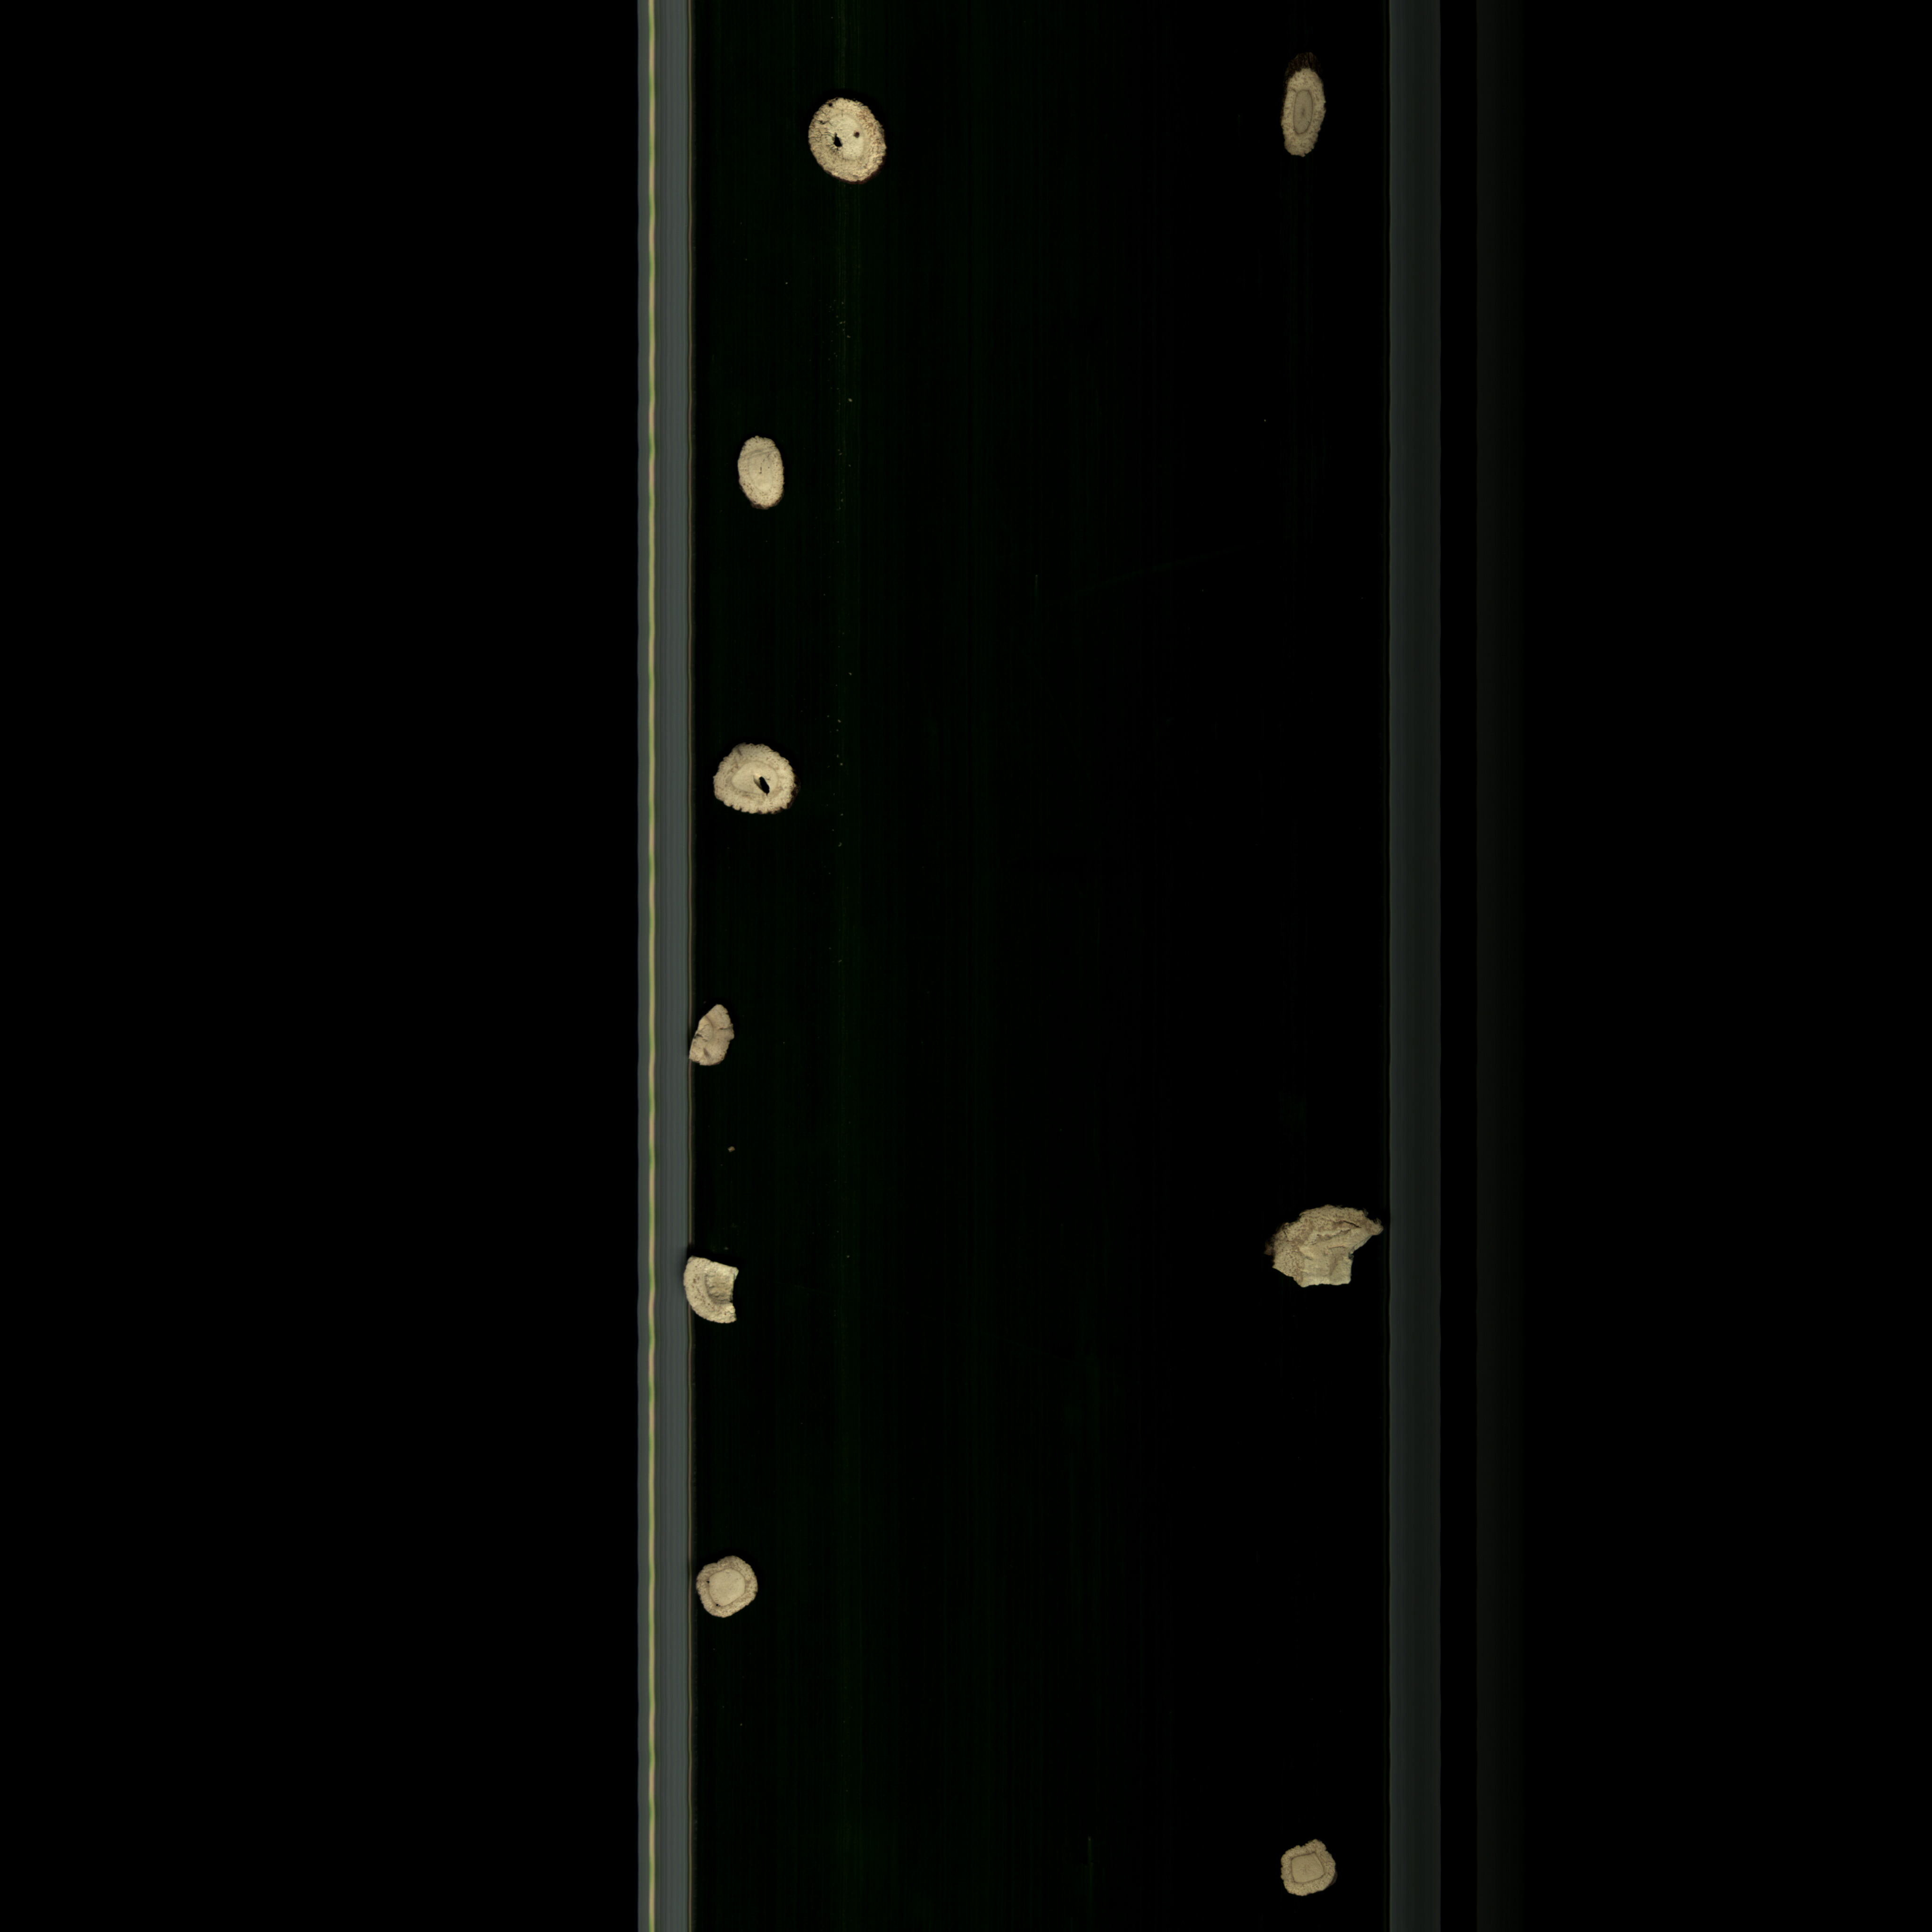debris: (1256, 1200, 1389, 1300), (676, 1246, 754, 1334)
distortion: (1272, 1836, 1346, 1900)
dreg: (683, 998, 747, 1070)
hole: (800, 94, 893, 193), (709, 740, 807, 830), (690, 1550, 764, 1624)
moldy: (1274, 64, 1334, 166)
